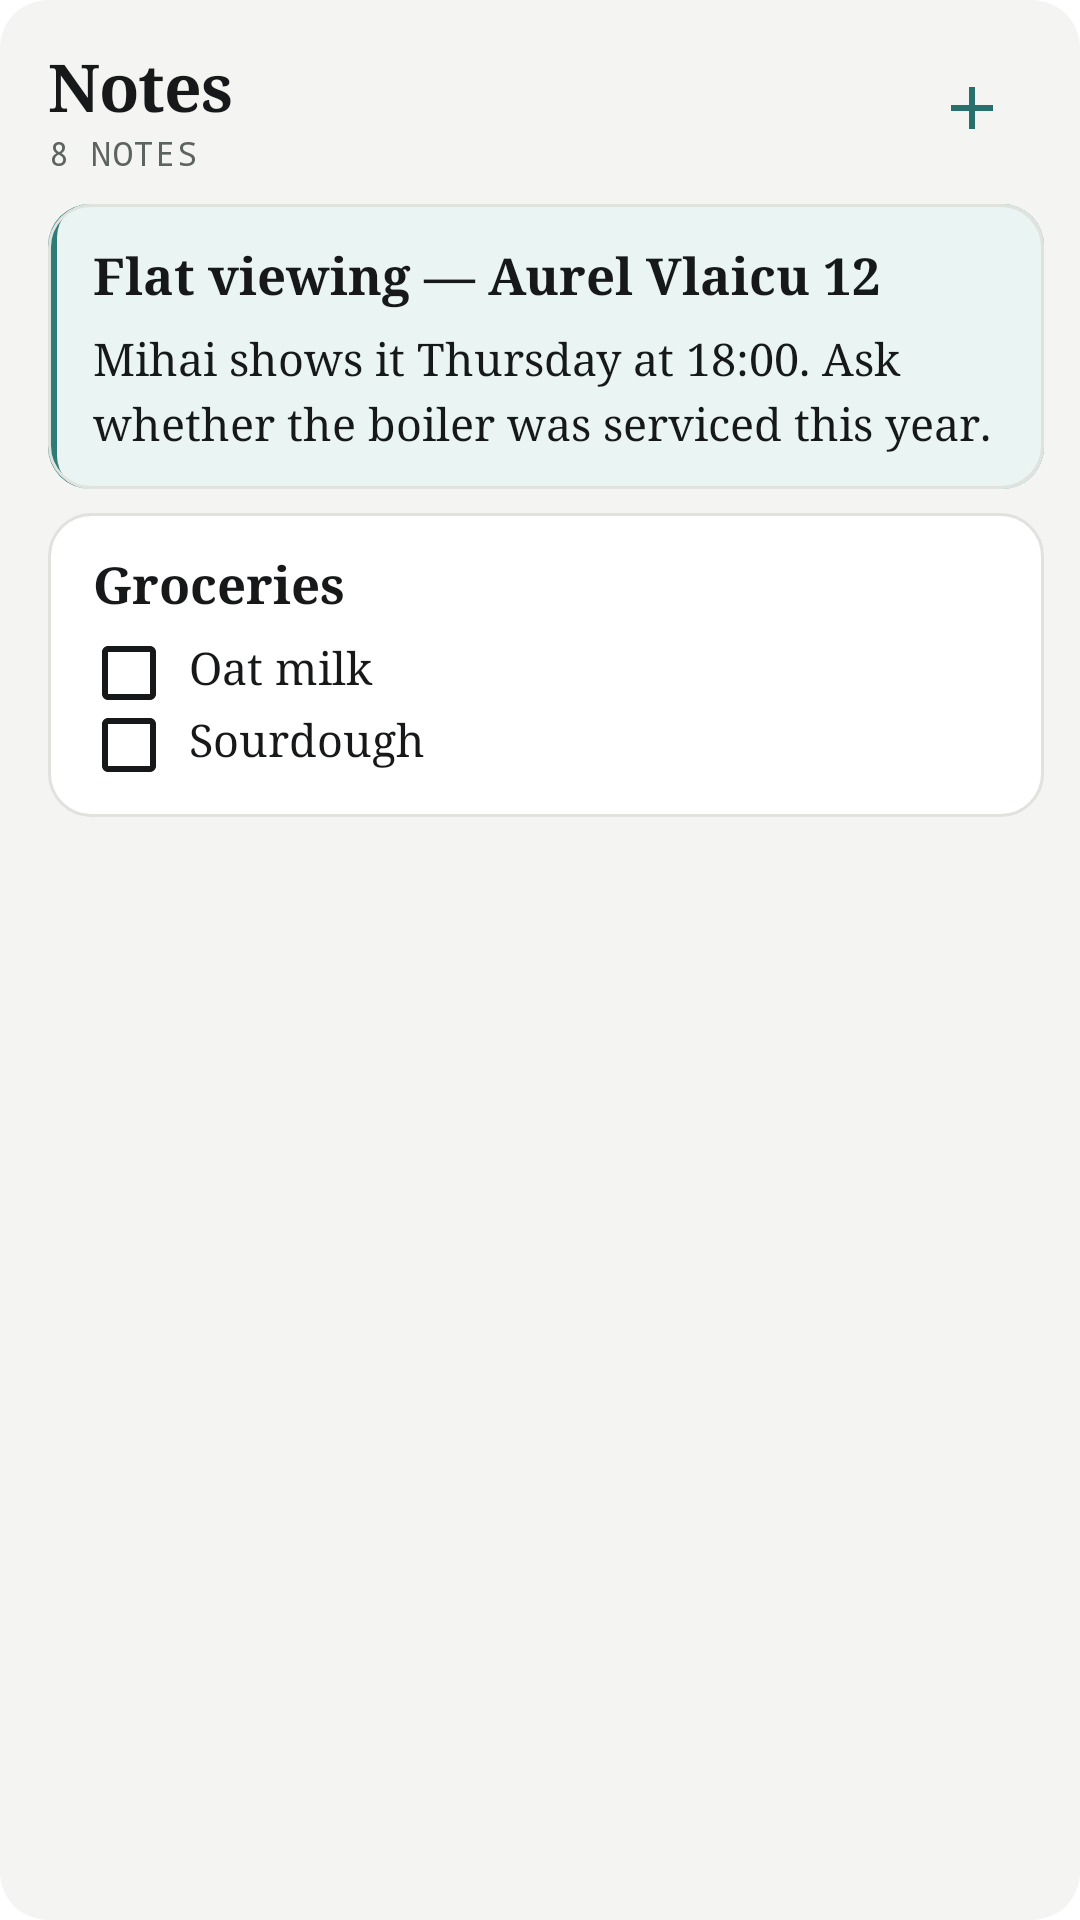

Icons on this 1080px×1920px Android screen, each with the point to tap as [x,y]:
widget add: [972,108]
